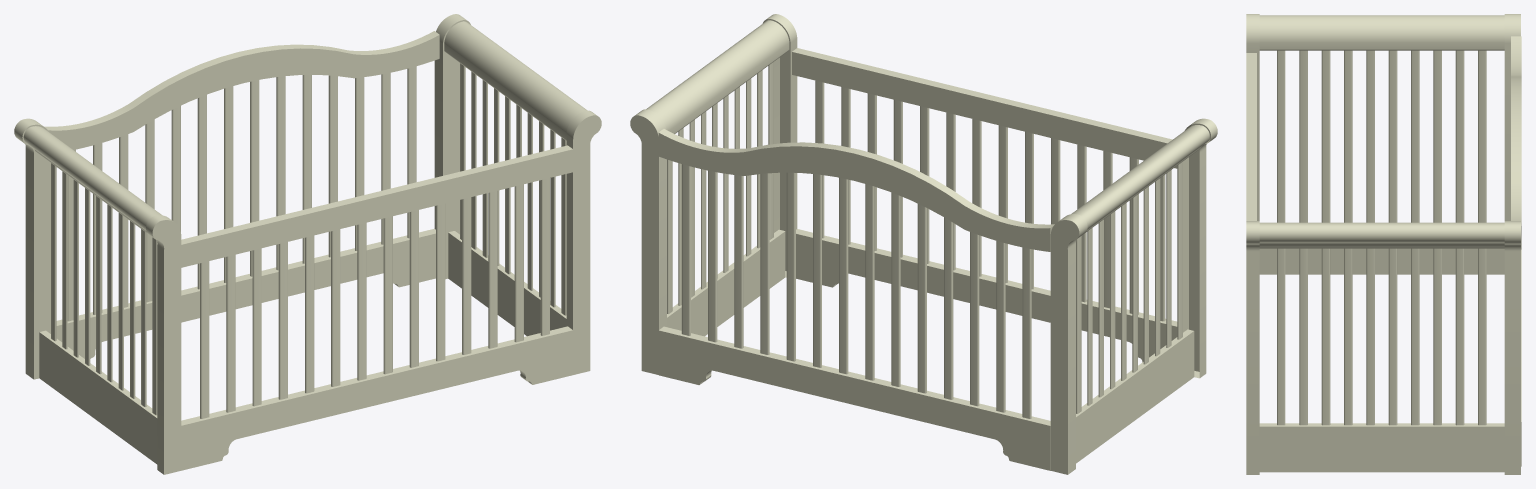
File: crib.fbx
The picture shows the model from 3 angles, left to right: view 1: azimuth 30°, elevation 25°; view 2: azimuth 150°, elevation 25°; view 3: azimuth 270°, elevation 25°; orthographic projection.
Visible parts, largest first — view 1: bok2_001, bok1#1_001, bok#1_001, bok_001; view 2: bok1#1_001, bok#1_001, bok2_001, bok_001; view 3: bok_001, bok#1_001, bok1#1_001, bok2_001.
Part boxes in pixels (x1,y1,x2,y2): bok2_001: [181, 145, 572, 470]; bok1#1_001: [44, 31, 439, 358]; bok#1_001: [14, 118, 181, 474]; bok_001: [434, 14, 601, 374]; bok1#1_001: [658, 129, 1054, 470]; bok#1_001: [1050, 118, 1217, 474]; bok2_001: [792, 48, 1177, 362]; bok_001: [630, 14, 797, 374]; bok_001: [1246, 221, 1520, 474]; bok#1_001: [1246, 14, 1520, 274]; bok1#1_001: [1511, 36, 1521, 466]; bok2_001: [1246, 53, 1256, 220].
Size of the model in its own units: 18817 by 10790 by 10063.
